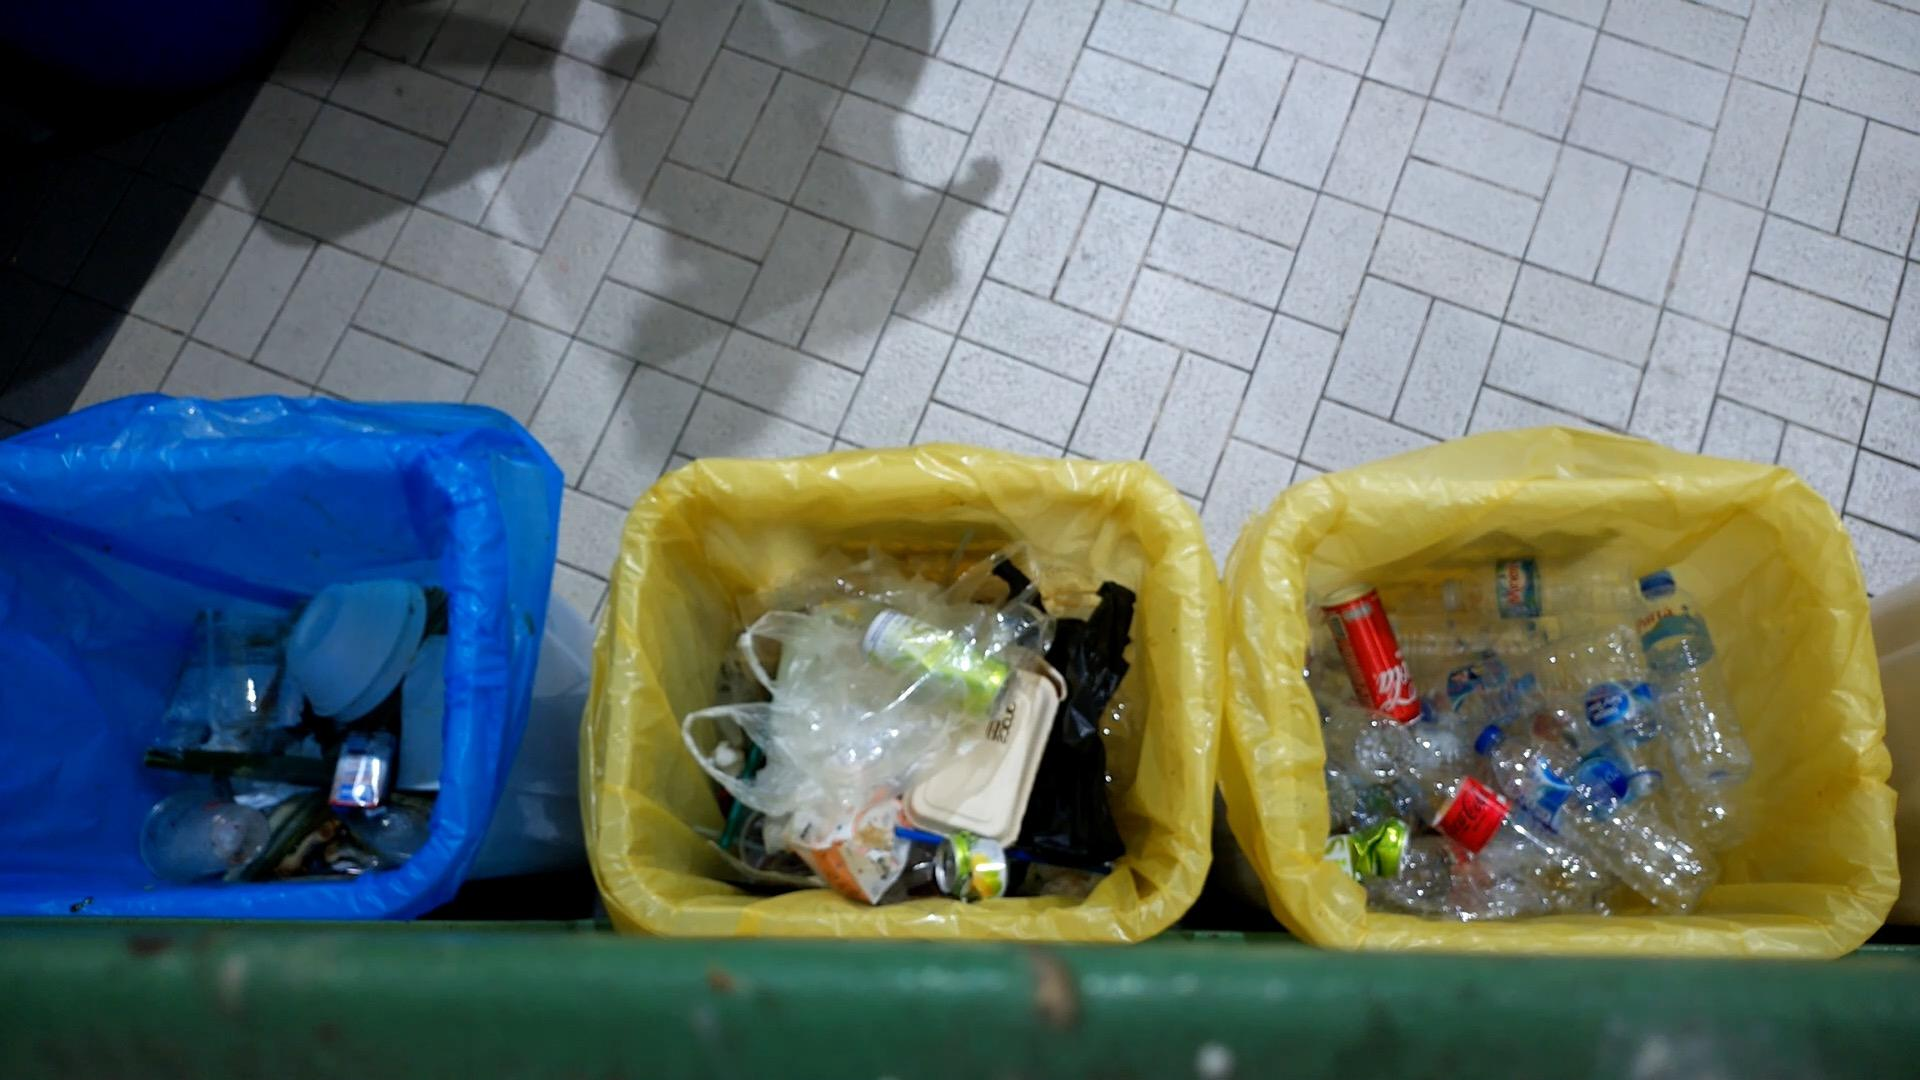can: (862, 606, 1020, 715), (1323, 577, 1418, 726), (931, 831, 1011, 901), (1331, 814, 1413, 882)
food container: (898, 655, 1063, 854), (284, 576, 428, 725)
milk carton: (325, 724, 395, 816)
plastic bag: (688, 607, 1051, 830), (798, 541, 1063, 779), (1000, 550, 1141, 875)
plastic bottle: (1474, 726, 1724, 920), (1388, 755, 1631, 920), (1548, 559, 1667, 800), (1416, 620, 1651, 739), (1639, 569, 1759, 792), (1437, 556, 1638, 624)
plastic cup: (140, 789, 272, 885)
snack packaging: (147, 608, 287, 754), (785, 774, 914, 906)
